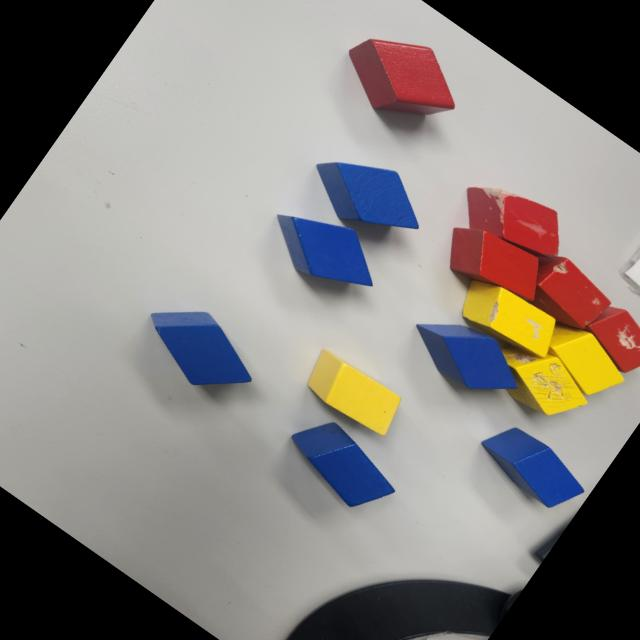blue: (126, 282, 272, 414), (300, 132, 438, 258), (256, 188, 393, 312), (399, 295, 536, 416), (273, 404, 408, 526), (471, 414, 594, 520)
broken: (447, 160, 578, 280), (480, 327, 599, 435), (448, 266, 566, 370), (508, 240, 618, 342), (573, 295, 640, 386)
red: (324, 6, 478, 150), (431, 208, 556, 322)
yellow: (295, 342, 409, 443), (530, 312, 636, 408)
